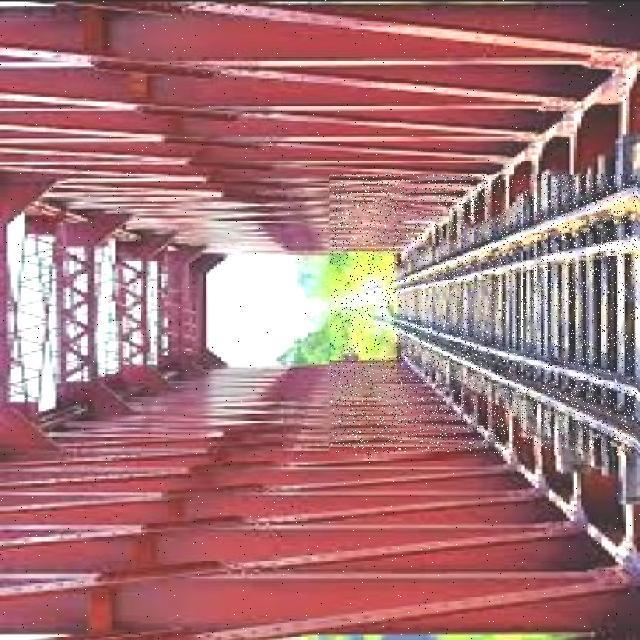rail: (330, 174, 638, 453)
